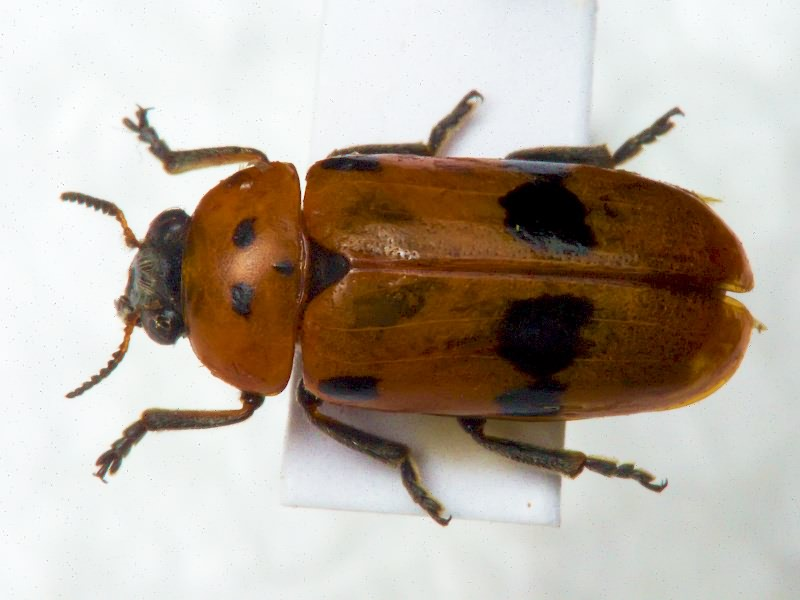Clytra_novempunctata: (36, 80, 781, 529)
